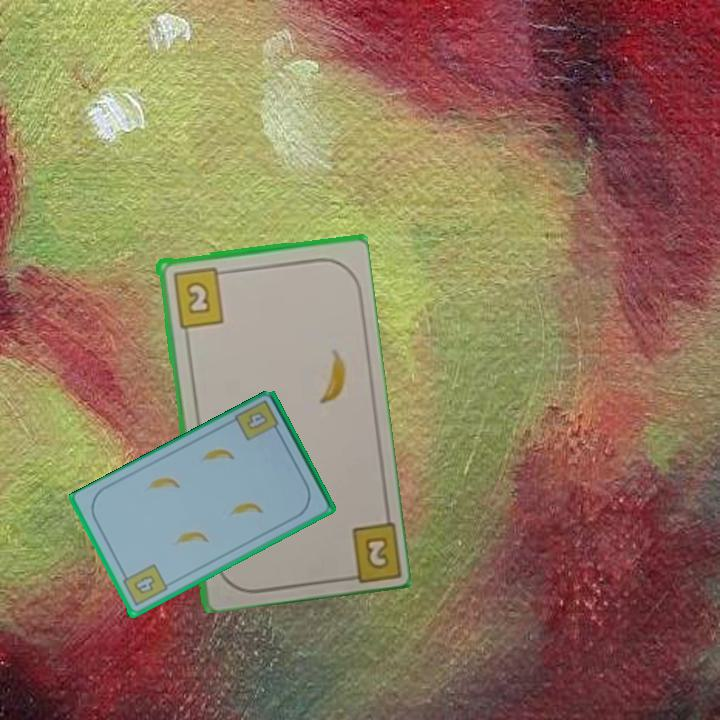2b: (336, 516, 401, 584), (169, 264, 230, 330)
4b: (118, 561, 170, 610), (231, 397, 284, 444)
